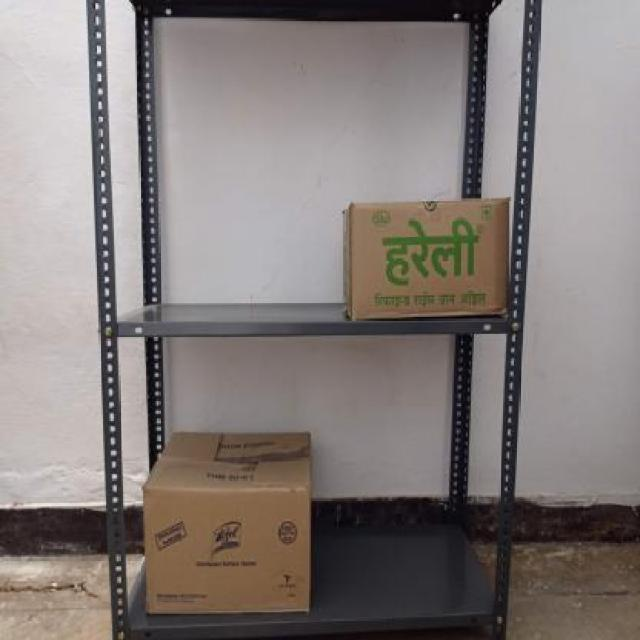box: (141, 488, 314, 617), (349, 200, 506, 322)
